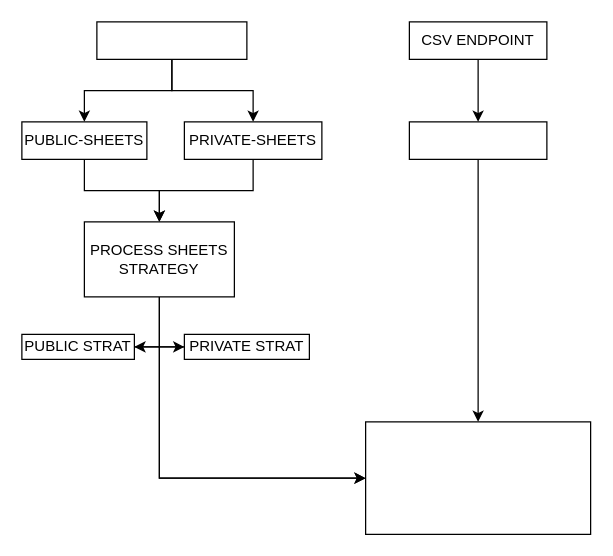
Some shapes in this 613 by 556 pixel diagram are drawn without their labels. Here are the shapes that lost their labels. From the top down, the box of each, then its label:
(96, 21, 247, 59): SHEETS ENDPOINT
(408, 121, 547, 159): CSV-DTO
(364, 421, 591, 534): PROCESS CSV METHOD
